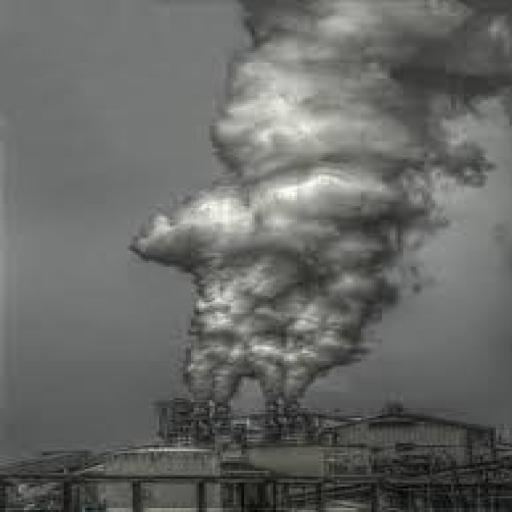smoke: (154, 14, 512, 388)
